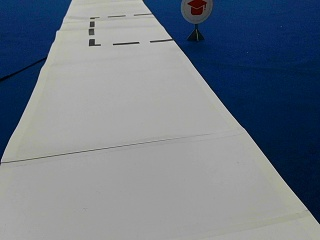school: (180, 0, 212, 23)
